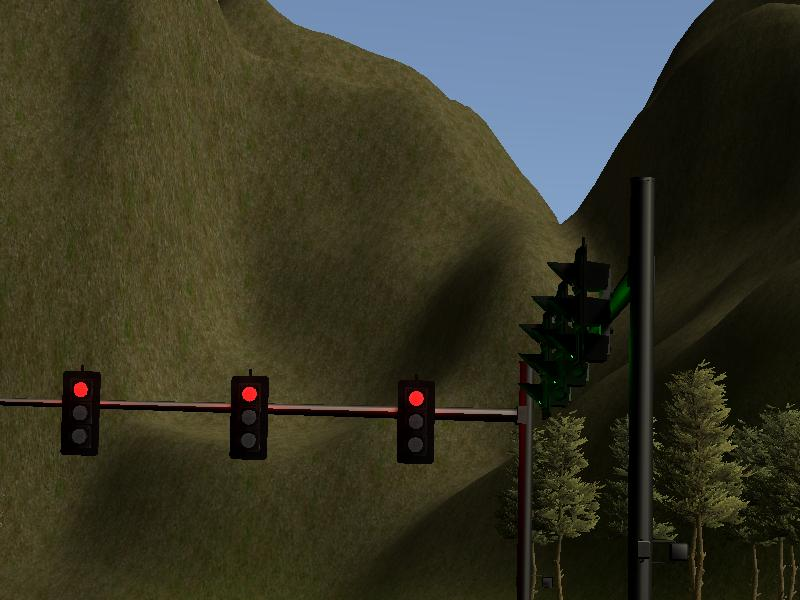Red: (396, 381, 434, 464), (63, 372, 100, 456), (230, 378, 266, 458)
